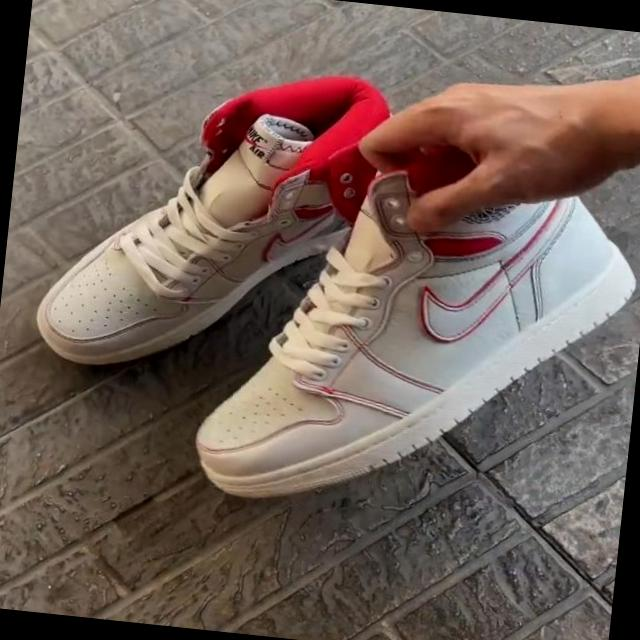nike_fake_jordan: (21, 40, 429, 398)
